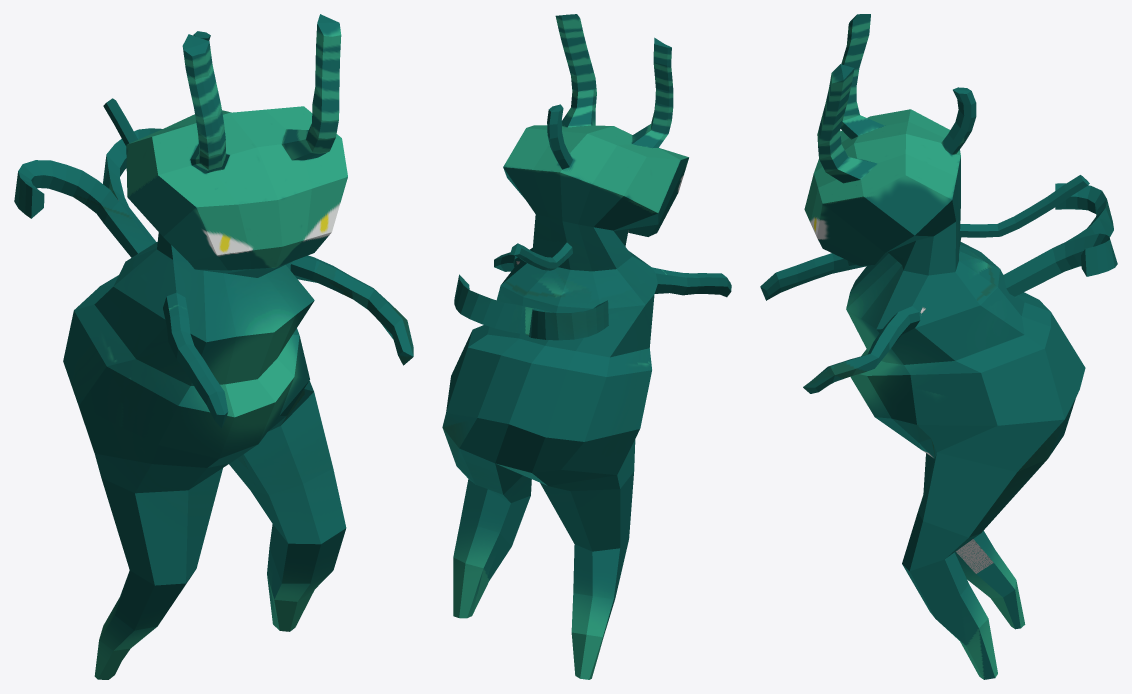
File: monstruo1_caminar_45.obj
3 renders of one model, left to right at view 1: azimuth 30°, elevation 25°; view 2: azimuth 150°, elevation 25°; view 3: azimuth 270°, elevation 25°, orthographic. The views are drawn at different scales.
Visible parts, largest first — view 1: Monstruo_basico; view 2: Monstruo_basico; view 3: Monstruo_basico.
Boxes of the visible parts, x1=… form: Monstruo_basico: x1=14, y1=14, x2=413, y2=679; Monstruo_basico: x1=442, y1=14, x2=731, y2=679; Monstruo_basico: x1=760, y1=14, x2=1117, y2=679.
Size of the model in its own units: 0.3792 by 1.02 by 0.5427.
